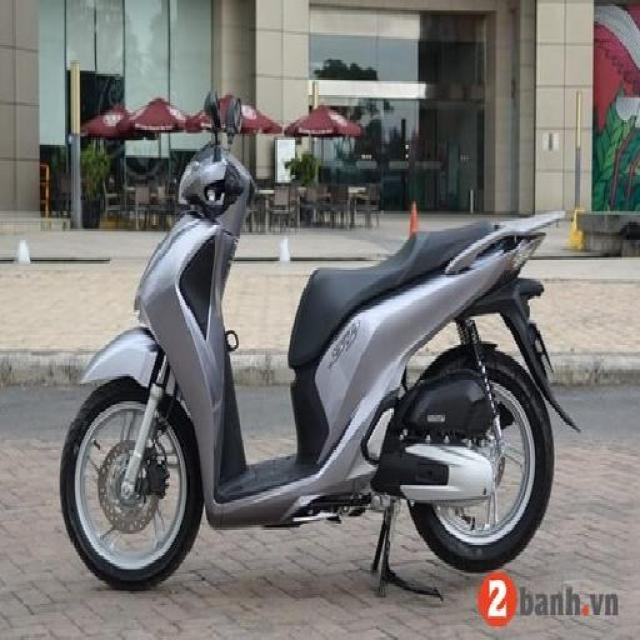All: (55, 136, 582, 588)
Head: (174, 144, 278, 218)
Tail: (484, 212, 554, 282)
